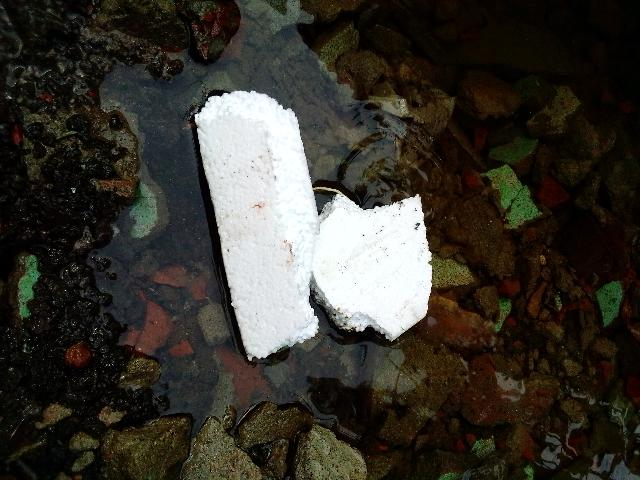cocksheet: (189, 93, 327, 370), (319, 197, 439, 330)
